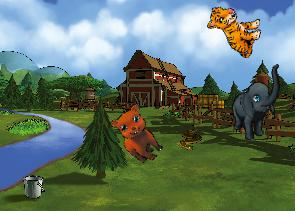bear: (104, 99, 174, 168)
elephant: (224, 64, 291, 142)
tiger: (202, 3, 265, 59)
